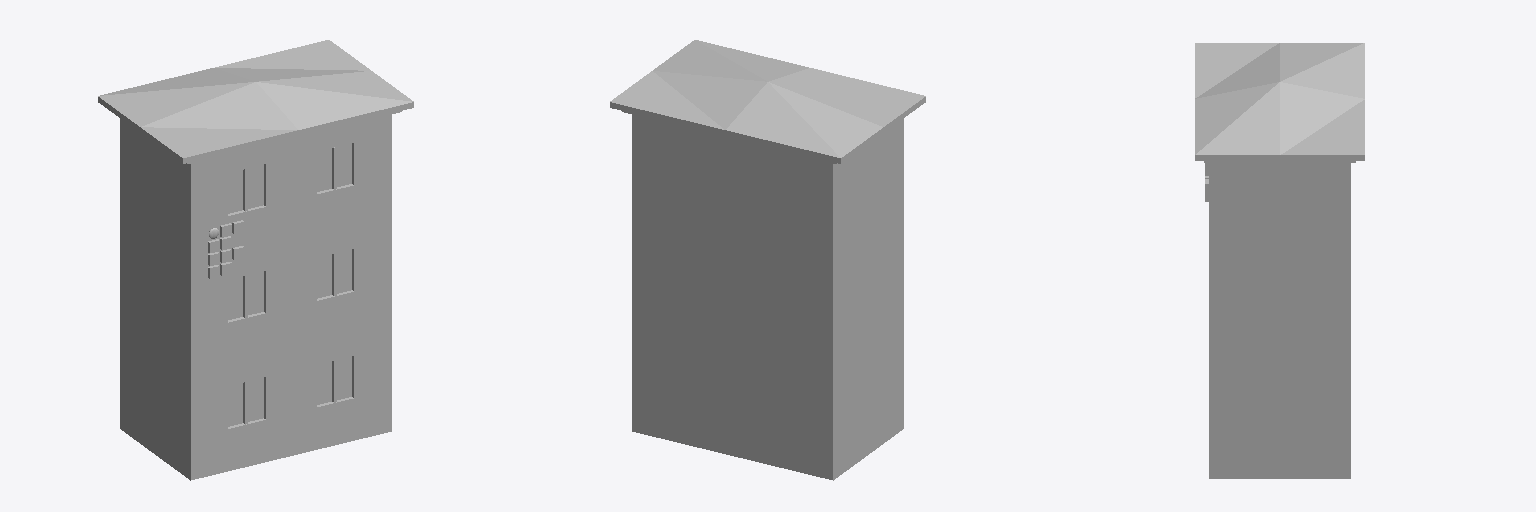
Rendered from campus-manhuacu.obj.
The picture shows the model from 3 angles: view 1: azimuth 30°, elevation 25°; view 2: azimuth 150°, elevation 25°; view 3: azimuth 270°, elevation 25°; orthographic projection.
Parts seen in each view (by area): view 1: Plane.011, Plane.006, Plane.023, Cube.011_Cube.018, Plane.022, Plane.010, Plane.007, Plane.021, Plane.009, Plane.008; view 2: Plane.011, Plane.006, Plane.023, Cube.011_Cube.018; view 3: Cube.011_Cube.018, Plane.006, Plane.011, Plane.023.
Boxes of the visible parts, x1=… form: Plane.011: x1=120, y1=323, x2=391, y2=480; Plane.006: x1=120, y1=216, x2=391, y2=373; Plane.023: x1=120, y1=115, x2=391, y2=266; Cube.011_Cube.018: x1=98, y1=40, x2=413, y2=163; Plane.022: x1=228, y1=165, x2=263, y2=213; Plane.010: x1=228, y1=378, x2=263, y2=426; Plane.007: x1=228, y1=271, x2=263, y2=319; Plane.021: x1=317, y1=143, x2=351, y2=191; Plane.009: x1=317, y1=356, x2=351, y2=404; Plane.008: x1=317, y1=250, x2=351, y2=298; Plane.011: x1=632, y1=323, x2=903, y2=480; Plane.006: x1=632, y1=216, x2=903, y2=373; Plane.023: x1=632, y1=115, x2=903, y2=266; Cube.011_Cube.018: x1=610, y1=40, x2=925, y2=163; Cube.011_Cube.018: x1=1195, y1=43, x2=1364, y2=160; Plane.006: x1=1209, y1=266, x2=1350, y2=372; Plane.011: x1=1209, y1=373, x2=1350, y2=478; Plane.023: x1=1209, y1=163, x2=1350, y2=265.
Bounding box in the file's own units: 22.66 × 32.59 × 14.46.